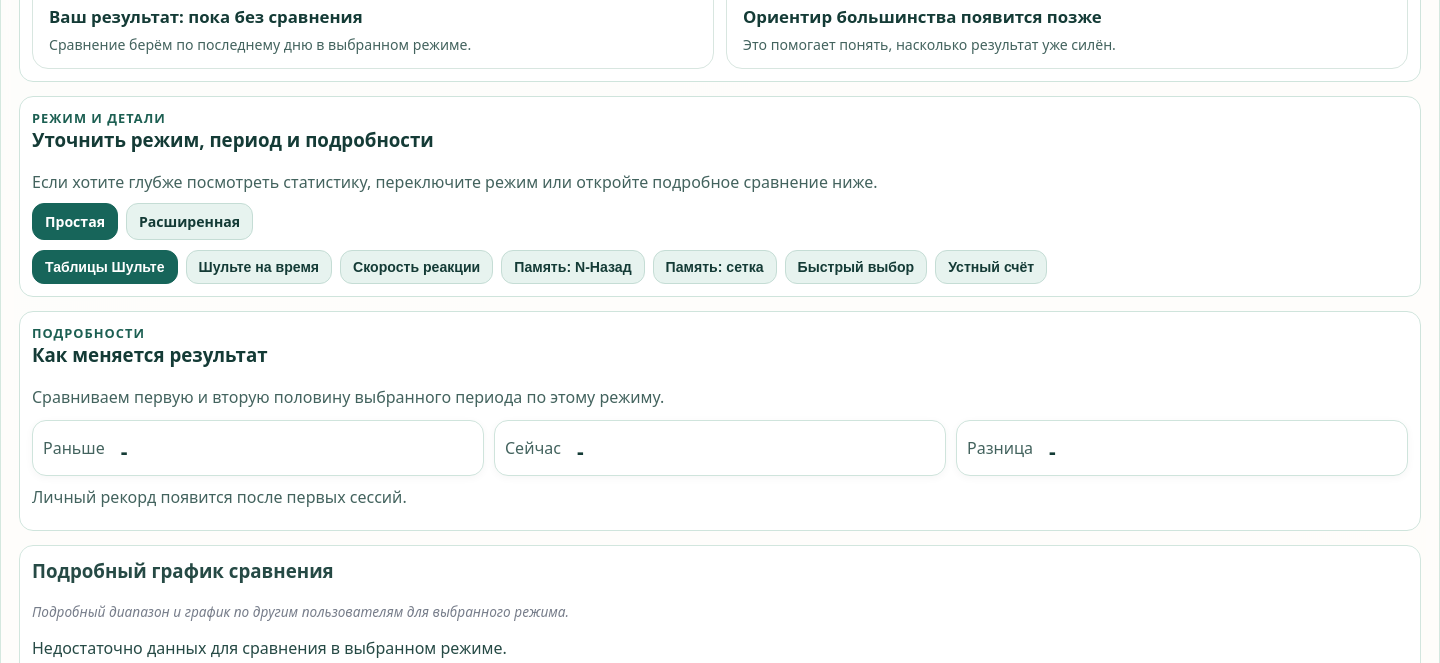
Test: StatsPage sprint filters › shows sprint submode filters and keeps the new top hierarchy
(page scrolled)
Click the button with test id "stats-mode-sprint" at (991, 267), box x1=935 y1=250 x2=1047 y2=284
(page scrolled)
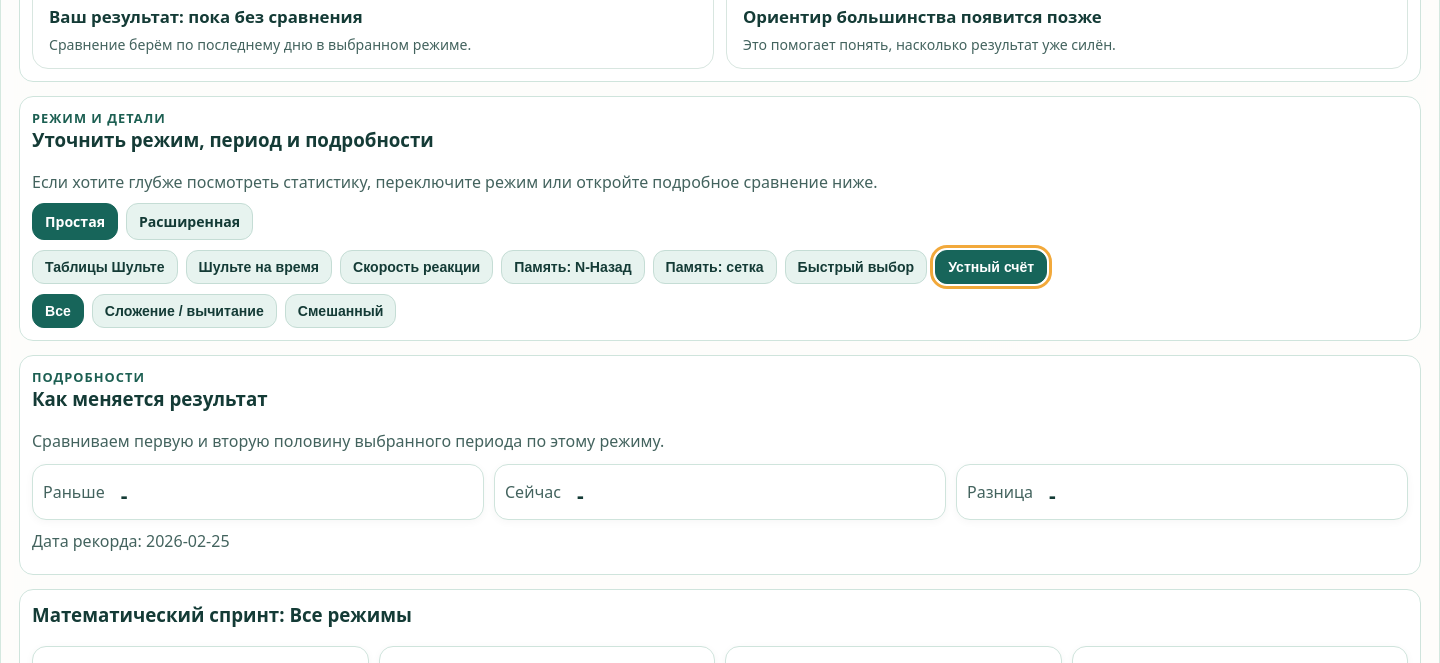
Expected: the element with test id "stats-controls-panel" is shown, x1=19 y1=96 x2=1421 y2=341
Expected: the element with test id "stats-sprint-filter-row" is shown, x1=32 y1=294 x2=396 y2=328
Expected: the heading "Математический спринт: Все режимы" is shown, x1=32 y1=602 x2=412 y2=627
Click the button with test id "stats-sprint-filter-mixed" at (341, 311), box x1=285 y1=294 x2=396 y2=328
(page scrolled)
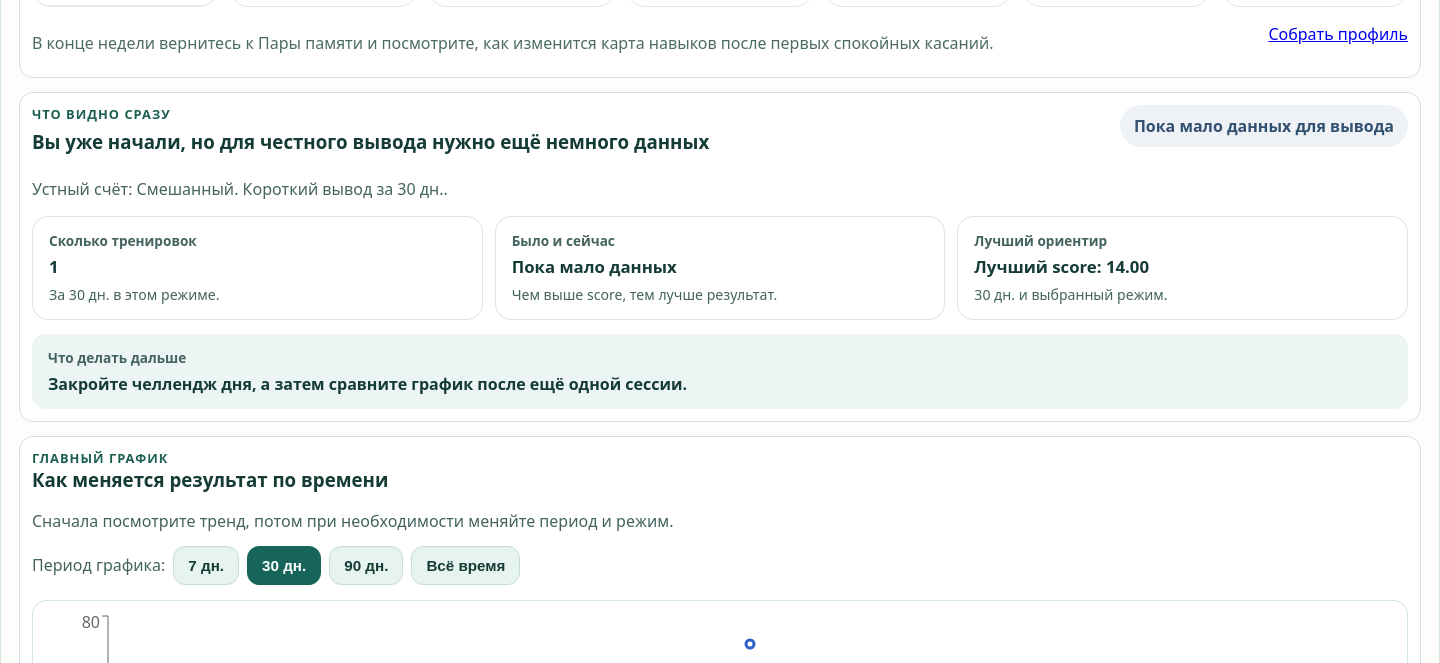
Expected: the element with test id "stats-summary-sessions" shows "1", x1=49 y1=255 x2=59 y2=278
Expected: the element with test id "stats-summary-best" shows "Лучший score: 14.00", x1=974 y1=255 x2=1149 y2=278
